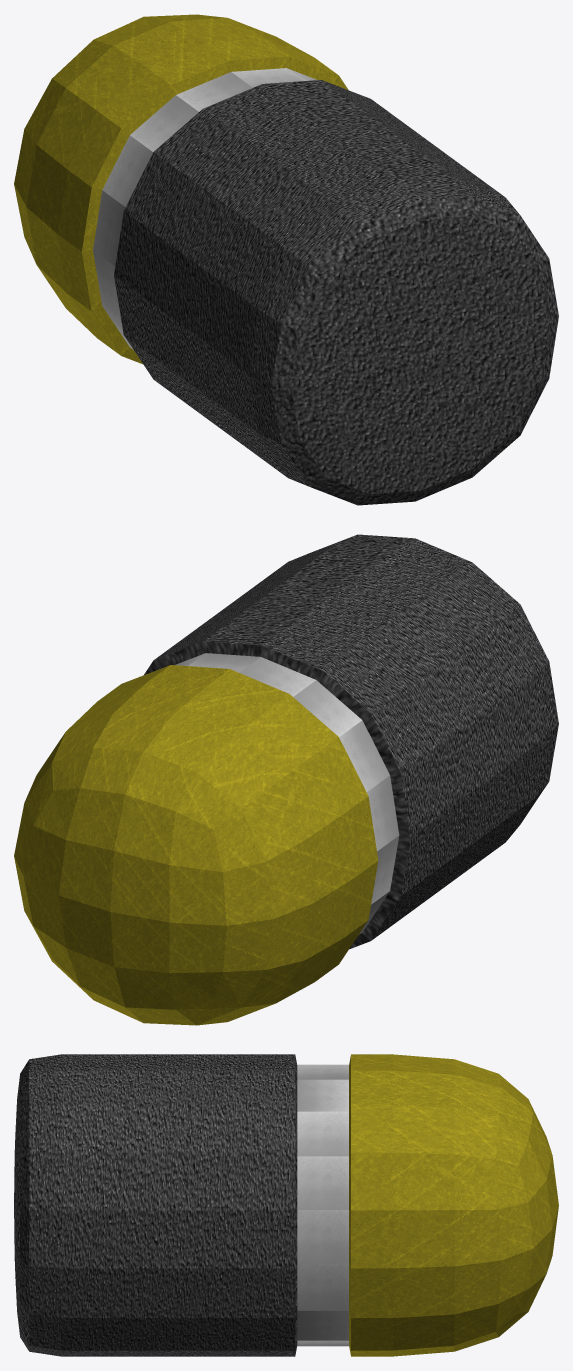
Rendered from projectile_grenade.obj.
3 renders of one model, top to bottom at view 1: azimuth 30°, elevation 25°; view 2: azimuth 150°, elevation 25°; view 3: azimuth 270°, elevation 25°, orthographic. The views are drawn at different scales.
Visible parts, largest first — view 1: Cube; view 2: Cube; view 3: Cube.
Part boxes in pixels (x1,y1,x2,y2): Cube: [14, 14, 558, 505]; Cube: [14, 534, 558, 1025]; Cube: [14, 1054, 558, 1356].
Size of the model in its own units: 0.0302 by 0.0302 by 0.0553.
